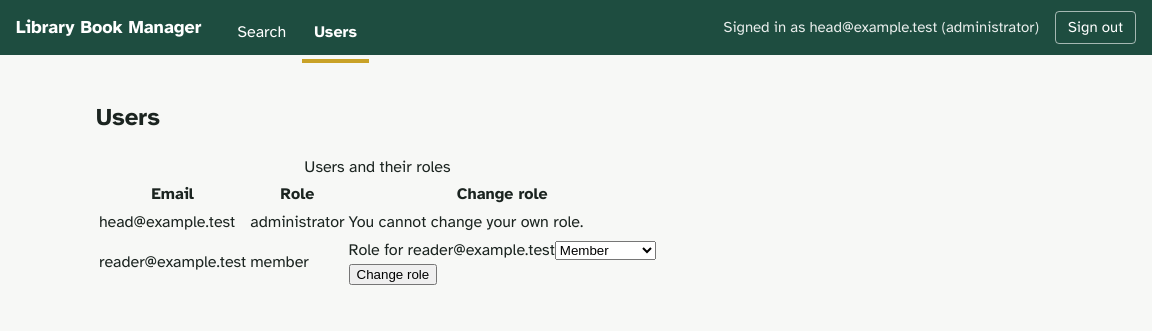
it: REQ-AUTH-004 roles › AC-AUTH-004-4: an administrator changes another user's role
Select "Librarian" in the dropdown labelled "Role for reader@example.test". click: (605, 250)
box: [555,241,656,260]
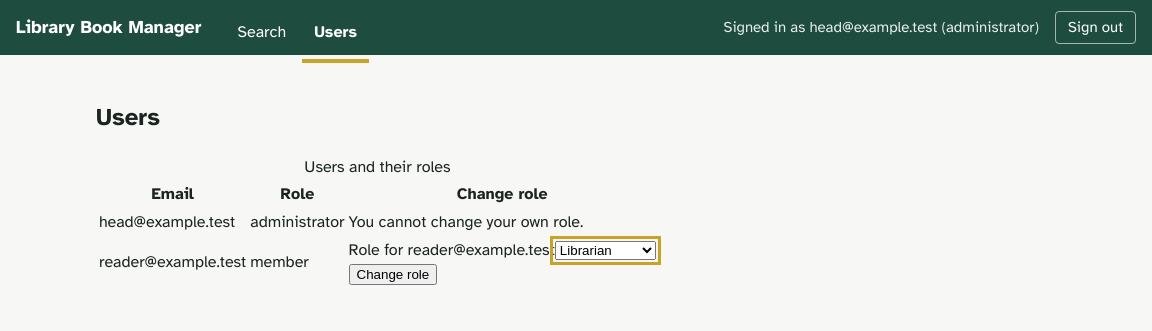
Click the button with aria-label "Change role for reader@example.test". click: (393, 274)
box: [349,264,437,285]
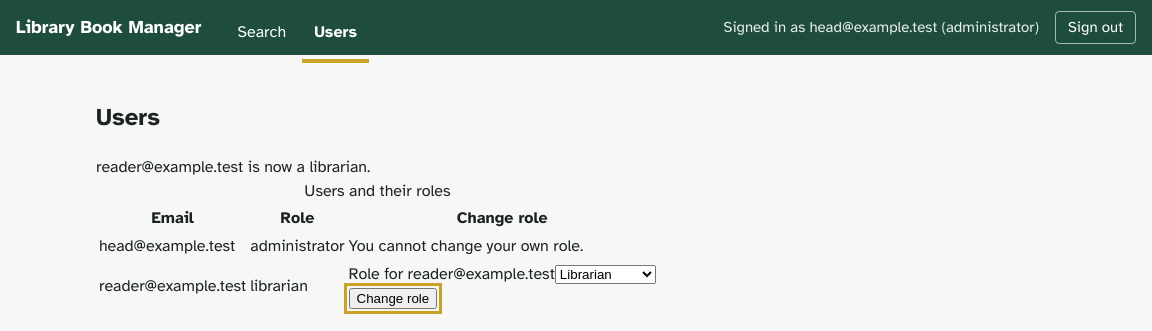
Expected: the message reads "reader@example.test is now a librarian.", [96,157,370,177]
